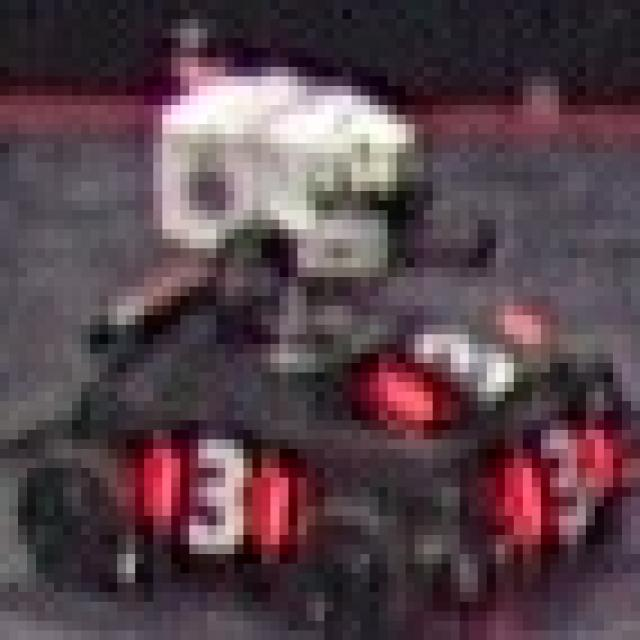R3: (135, 430, 298, 554), (496, 420, 622, 544)
